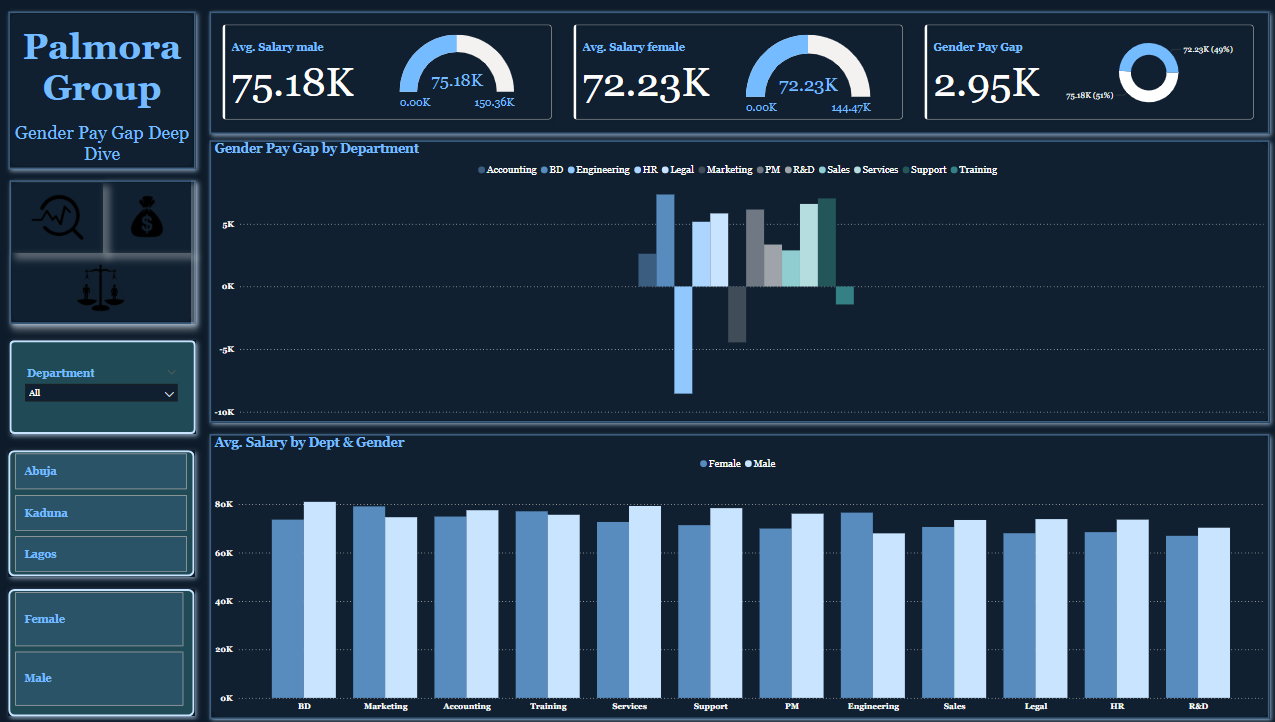

The dashboard page shown, as its layout file describes it:
{"tool":"powerbi","page":{"name":"Page 5","canvas":[1900,1080],"ordinal":4},"visuals":[{"type":"shape","box":[16.7,668.5,275.9,187],"z":0},{"type":"shape","box":[16.7,874.1,275.9,188.9],"z":1000},{"type":"shape","box":[312,14,1574,186],"z":2000},{"type":"shape","box":[312,210,1574,422],"z":3000},{"type":"shape","box":[314,644,1574,422],"z":4000},{"type":"shape","box":[14.8,18.5,277.8,233.3],"z":5000},{"type":"lineClusteredColumnComboChart","fields":{"Y":["Bonus Rules.Gender Pay Gap"],"Series":["Palmoria Group emp-data (2).Department"]},"box":[314.8,209.3,1574.1,422.2],"z":6000},{"type":"clusteredColumnChart","title":"Avg.  Salary by Dept & Gender","fields":{"Category":["Palmoria Group emp-data (2).Department"],"Series":["Palmoria Group emp-data (2).Gender"],"Y":["Bonus Rules.Avg_salary"]},"box":[314.8,644.4,1570.4,422.2],"z":7000},{"type":"cardVisual","fields":{"Data":["Bonus Rules.Avg salary male","Bonus Rules.Avg salary female","Bonus Rules.Gender Pay Gap"]},"box":[314.8,18.5,1570.4,181.5],"z":8000},{"type":"gauge","fields":{"Y":["Bonus Rules.Avg salary male"]},"box":[533.3,48.1,296.3,122.2],"z":9000},{"type":"gauge","fields":{"Y":["Bonus Rules.Avg salary female"]},"box":[1051.9,48.1,300,129.6],"z":10000},{"type":"textbox","box":[16.7,35.2,277.8,142.6],"z":11000},{"type":"textbox","box":[16.7,177.8,277.8,74.1],"z":12000},{"type":"advancedSlicerVisual","fields":{"Values":["Palmoria Group emp-data (2).Gender"]},"box":[22.2,874.1,259.3,179.6],"z":13000},{"type":"advancedSlicerVisual","fields":{"Values":["Palmoria Group emp-data (2).Location"]},"box":[22.2,668.5,264.8,187],"z":14000},{"type":"shape","box":[18.5,505.6,275.9,138.9],"z":15000},{"type":"slicer","fields":{"Values":["Palmoria Group emp-data (2).Department"]},"box":[31.5,540.7,246.3,90.7],"z":16000},{"type":"shape","box":[18.5,268.5,275.9,213],"z":17000},{"type":"donutChart","fields":{"Y":["Bonus Rules.Avg salary male","Bonus Rules.Avg salary female"]},"box":[1546.3,48.1,320.4,122.2],"z":18000},{"type":"image","box":[22.2,272.2,135.2,103.7],"z":19000},{"type":"image","box":[18.5,375.9,268.5,105.6],"z":20000},{"type":"image","box":[157.4,268.5,129.6,107.4],"z":21000}]}

Visuals, with their boxes in screenshot pixels (x1, y1, x2, y2), scaled from the page's 1900x1080 canvas onto the 1275x722 screenshot:
shape: locate(11, 447, 196, 572)
shape: locate(11, 584, 196, 711)
shape: locate(209, 9, 1266, 134)
shape: locate(209, 140, 1266, 423)
shape: locate(211, 431, 1267, 713)
shape: locate(10, 12, 196, 168)
lineClusteredColumnComboChart - Bonus Rules.Gender Pay Gap x Palmoria Group emp-data (2).Department: locate(211, 140, 1268, 422)
"Avg.  Salary by Dept & Gender" clusteredColumnChart: locate(211, 431, 1265, 713)
cardVisual - Bonus Rules.Avg salary male x Bonus Rules.Avg salary female: locate(211, 12, 1265, 134)
gauge - Bonus Rules.Avg salary male: locate(358, 32, 557, 114)
gauge - Bonus Rules.Avg salary female: locate(706, 32, 907, 119)
textbox: locate(11, 24, 198, 119)
textbox: locate(11, 119, 198, 168)
advancedSlicerVisual - Palmoria Group emp-data (2).Gender: locate(15, 584, 189, 704)
advancedSlicerVisual - Palmoria Group emp-data (2).Location: locate(15, 447, 193, 572)
shape: locate(12, 338, 198, 431)
slicer - Palmoria Group emp-data (2).Department: locate(21, 361, 186, 422)
shape: locate(12, 179, 198, 322)
donutChart - Bonus Rules.Avg salary male x Bonus Rules.Avg salary female: locate(1038, 32, 1253, 114)
image: locate(15, 182, 106, 251)
image: locate(12, 251, 193, 322)
image: locate(106, 179, 193, 251)
